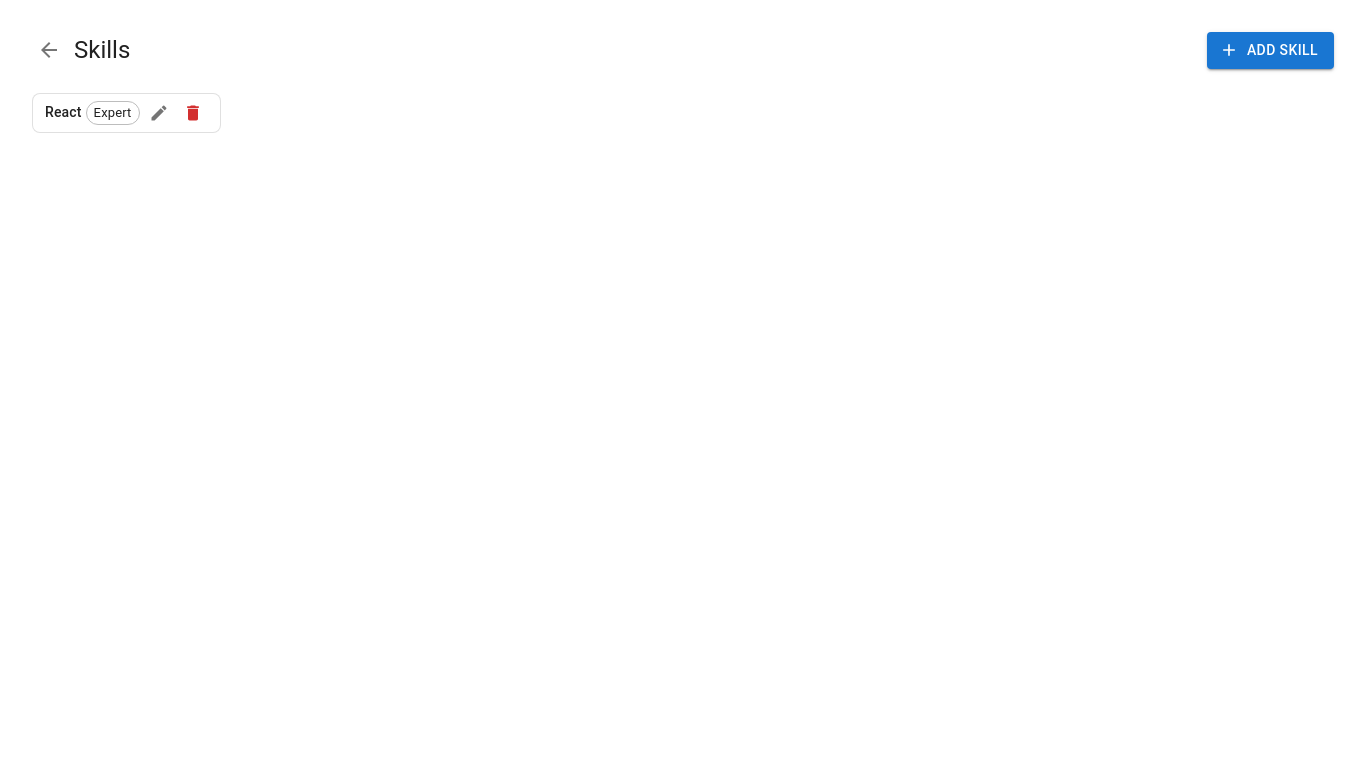
Test: SkillsPage › requires a skill name before creating
The image size is (1366, 768).
Click the button "Add Skill" at (1270,50), box [1207,32,1334,68]
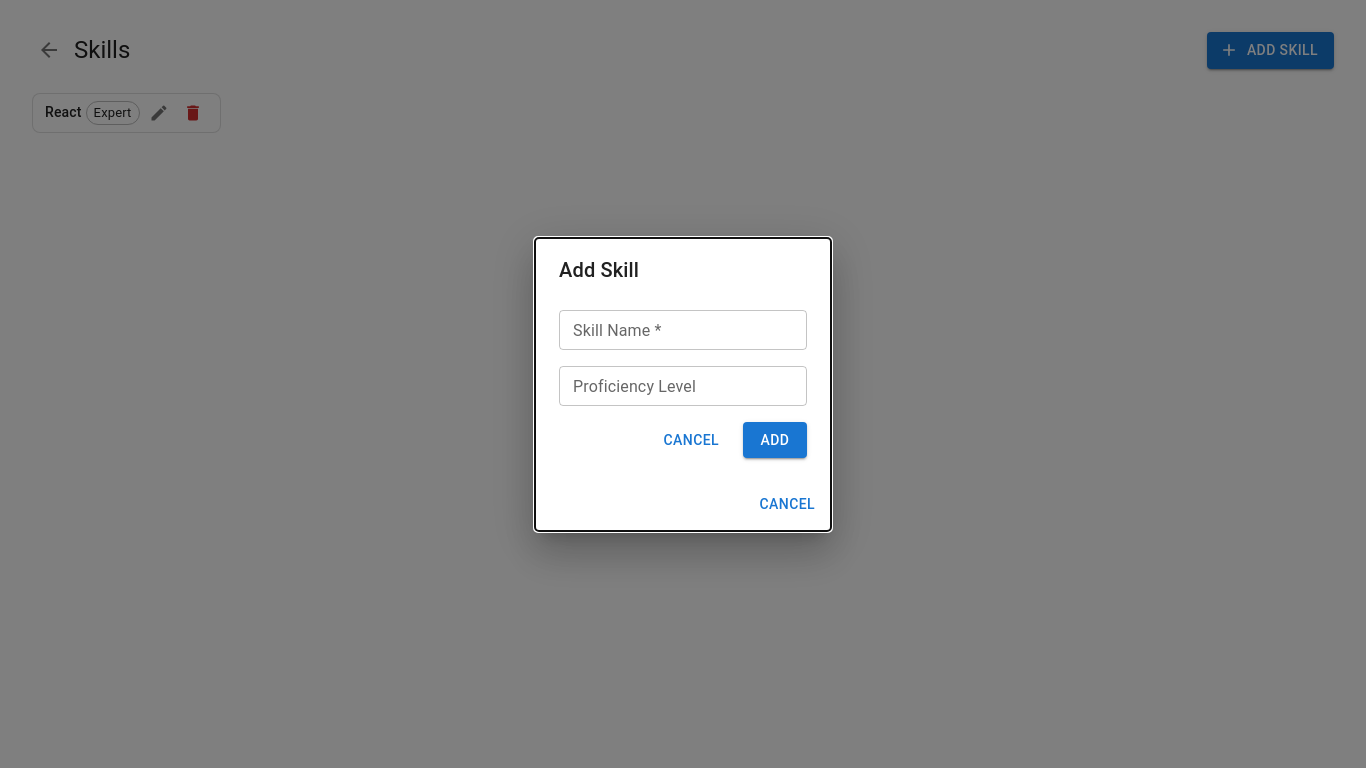
Click the button "Add" at (775,440), box [743,422,807,458]
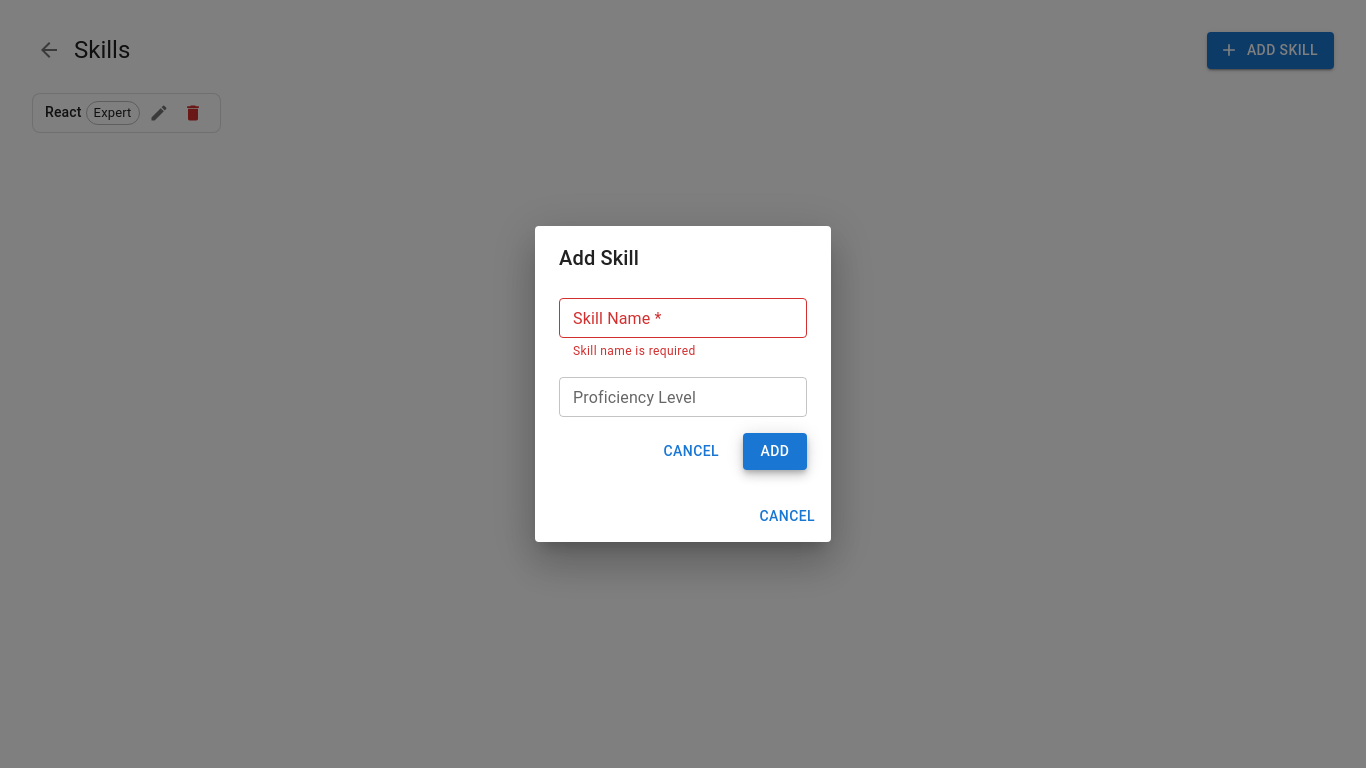
expect the text "Skill name is required" is shown: met, box [573,344,696,358]
